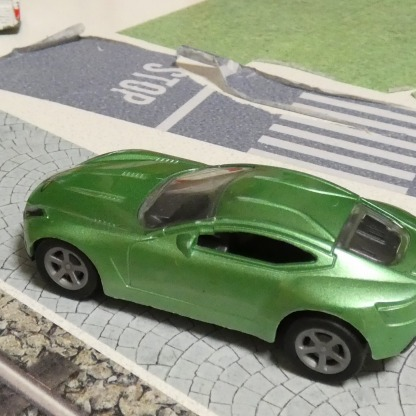car: (25, 147, 416, 382)
